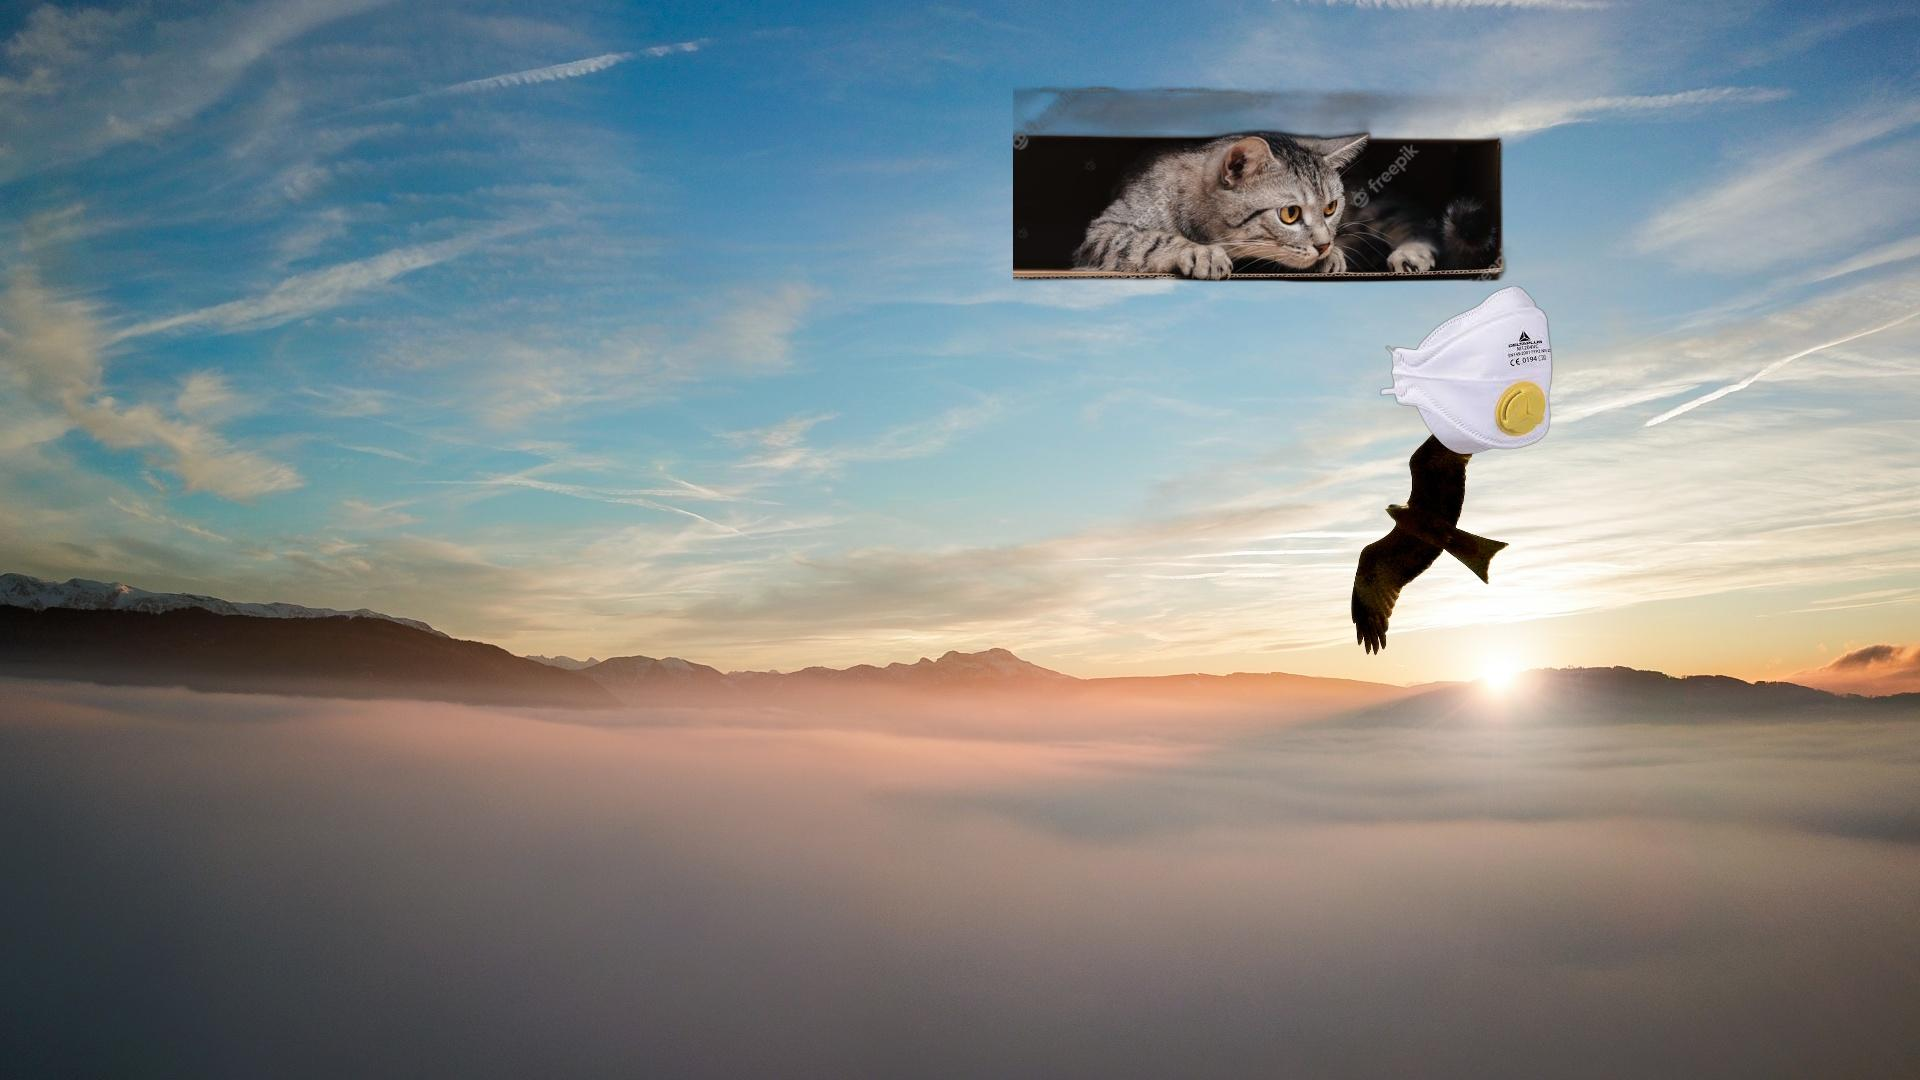trash: (1379, 286, 1555, 454)
trashbox-cardboard: (1013, 45, 1516, 286)
